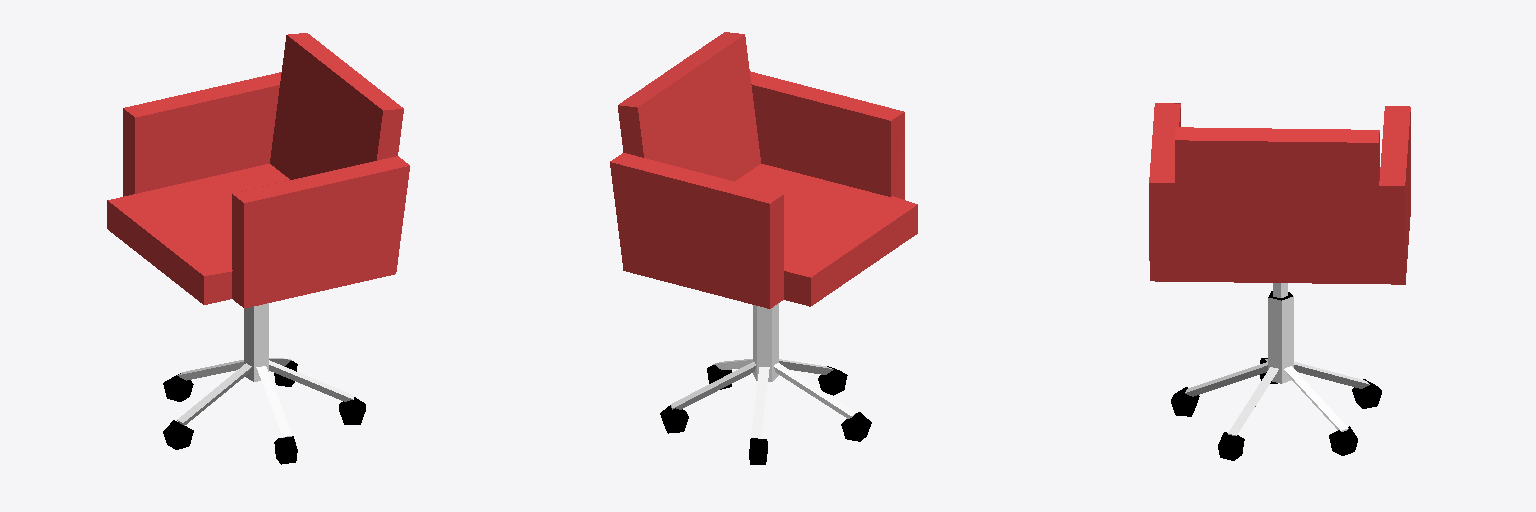
The model's file is ChairBoss.obj.
3 views of the same model, side by side, from view 1: azimuth 30°, elevation 25°; view 2: azimuth 150°, elevation 25°; view 3: azimuth 270°, elevation 25° (orthographic).
Parts seen in each view (by area): view 1: ChairBoss; view 2: ChairBoss; view 3: ChairBoss.
Part boxes in pixels (x1,y1,x2,y2): ChairBoss: (107, 33, 409, 464); ChairBoss: (610, 32, 917, 464); ChairBoss: (1149, 103, 1410, 460).
Bounding box in the file's own units: 58.16 × 91.01 × 65.3.